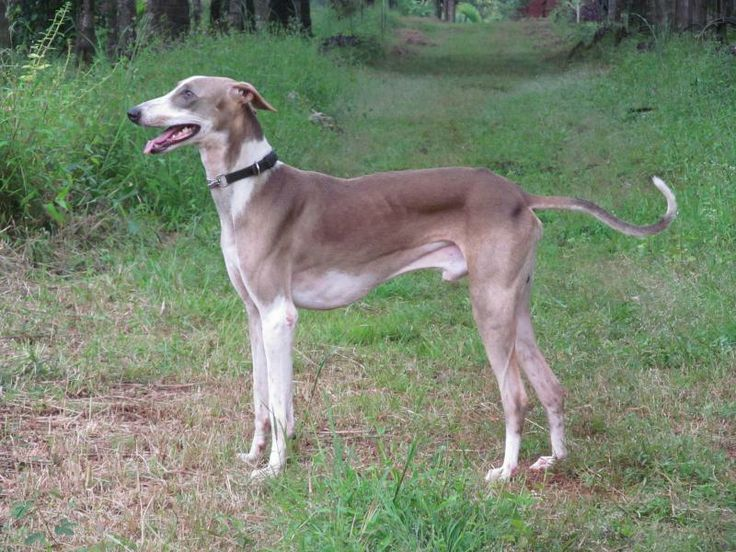dog: (126, 73, 682, 479)
